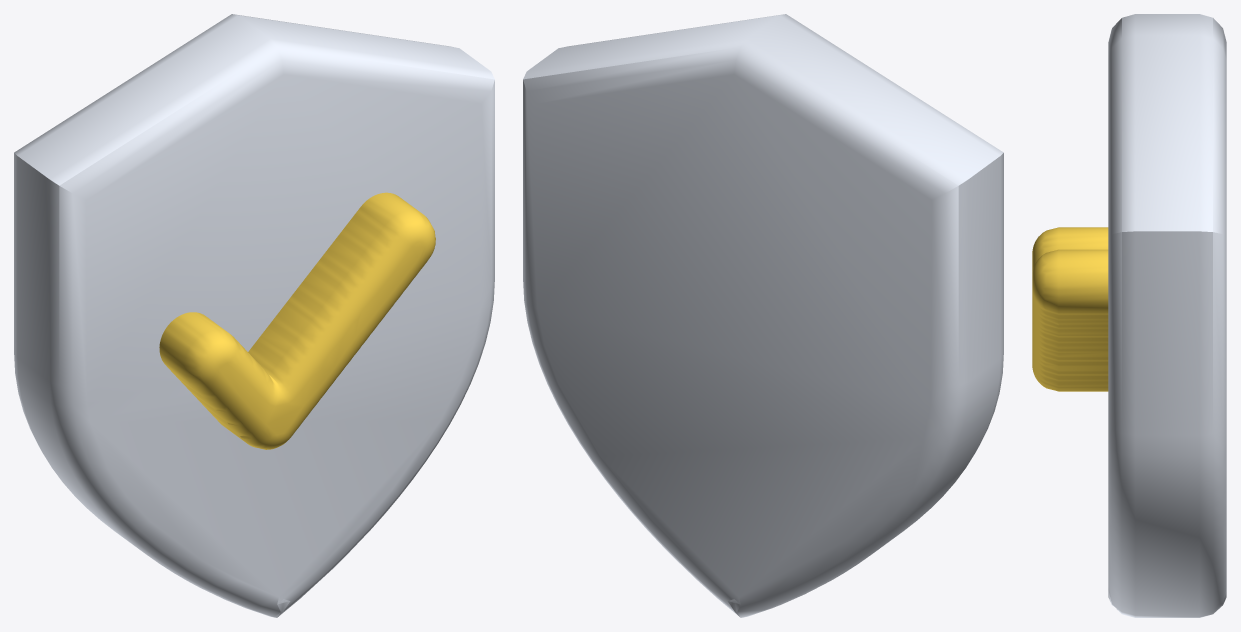
The model's file is frame-102.glb.
3 renders of one model, left to right at view 1: azimuth 30°, elevation 25°; view 2: azimuth 150°, elevation 25°; view 3: azimuth 270°, elevation 25°, orthographic.
Parts seen in each view (by area): view 1: Frame 102; view 2: Frame 102; view 3: Frame 102.
Part boxes in pixels (x1,y1,x2,y2): Frame 102: (14,14,494,617); Frame 102: (523,14,1003,617); Frame 102: (1032,14,1226,617).
Bounding box in the file's own units: 1.22 × 1.52 × 0.4594.
